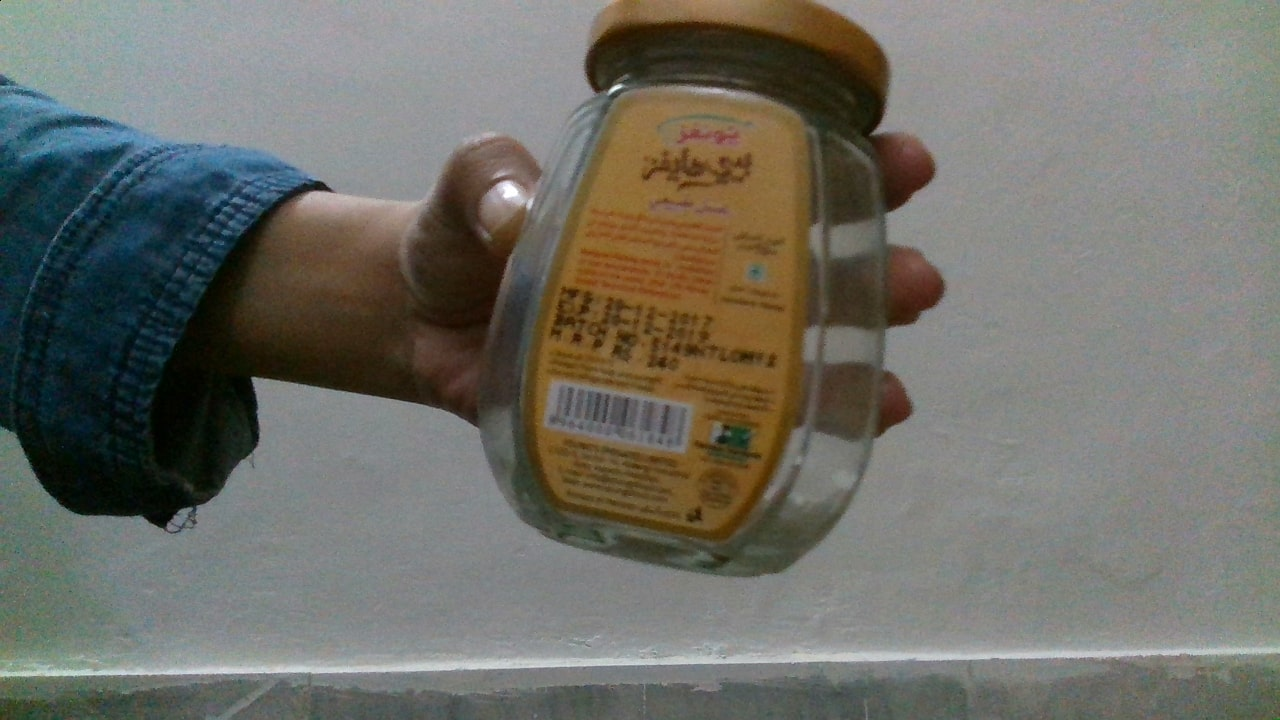Barcode: (548, 381, 691, 450)
